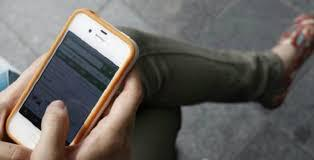Hand: (20, 66, 148, 159), (0, 35, 72, 160)
Smartphone: (9, 7, 138, 148)
